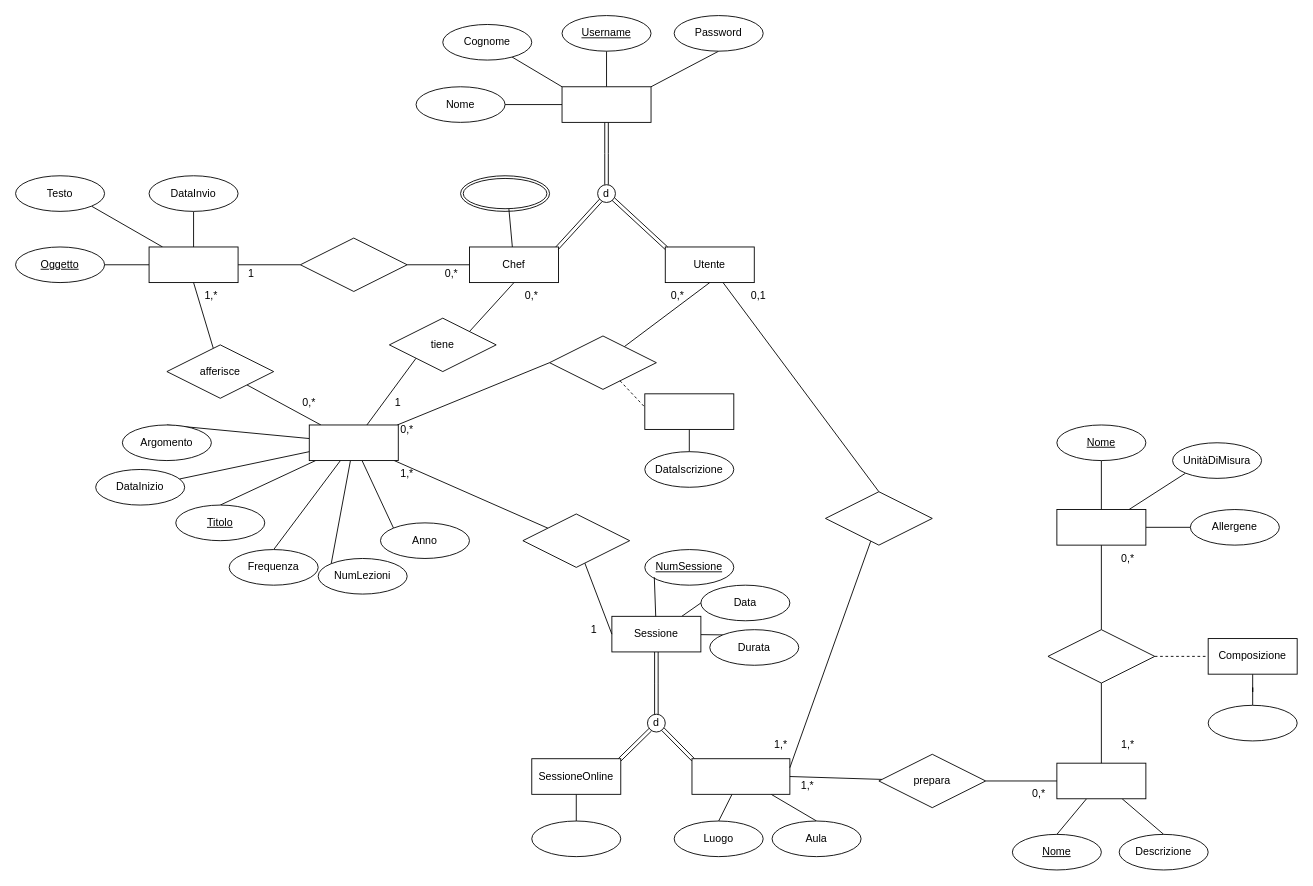
Some shapes in this 1313 by 886 pixel diagram are drawn without their labels. The box of each missing label's shape, as (x1, y1, x2, y2) in pixels:
aderisce: (825, 491, 932, 545)
Competenze: (460, 175, 550, 211)
Corso: (308, 424, 398, 461)
Ingrediente: (1056, 509, 1146, 545)
invia: (299, 237, 407, 291)
Iscrizione: (644, 393, 734, 429)
Link: (531, 820, 621, 857)
Notifica: (148, 246, 238, 283)
Persona: (561, 86, 651, 122)
Quantità: (1207, 704, 1297, 741)
Ricetta: (1056, 762, 1146, 799)
SessionePresenza: (691, 758, 790, 794)
è composta: (1047, 629, 1155, 683)
è composto: (522, 513, 630, 567)
è iscritto: (549, 335, 656, 389)
